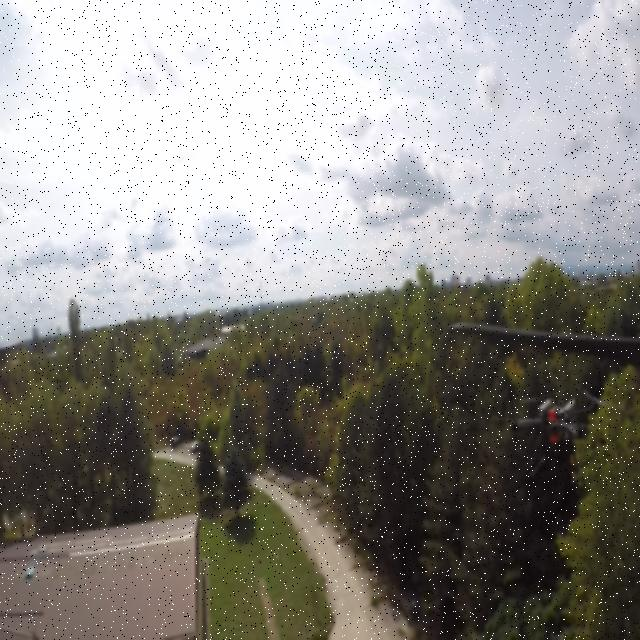UAV: (496, 388, 608, 478)
